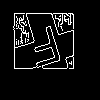F: (25, 25, 67, 77)
